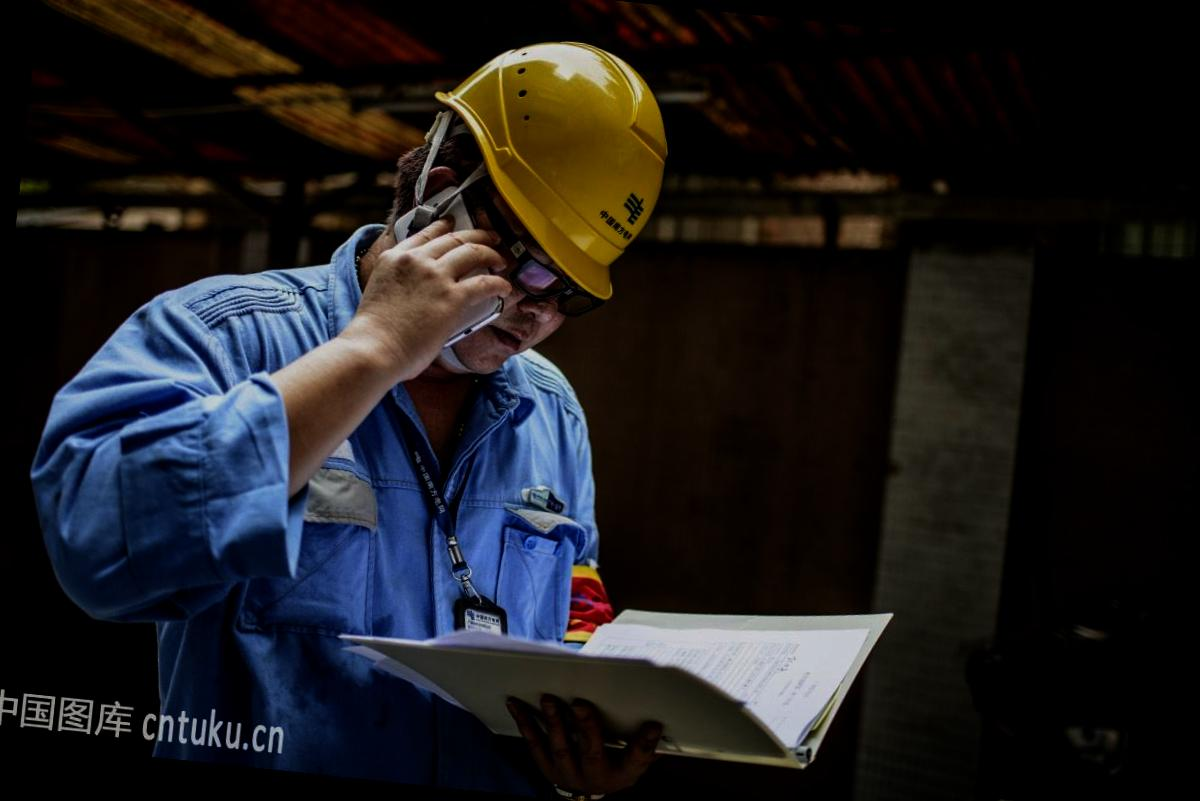helmet: (430, 35, 678, 308)
no_vest: (178, 278, 596, 732)
person: (0, 0, 775, 801)
